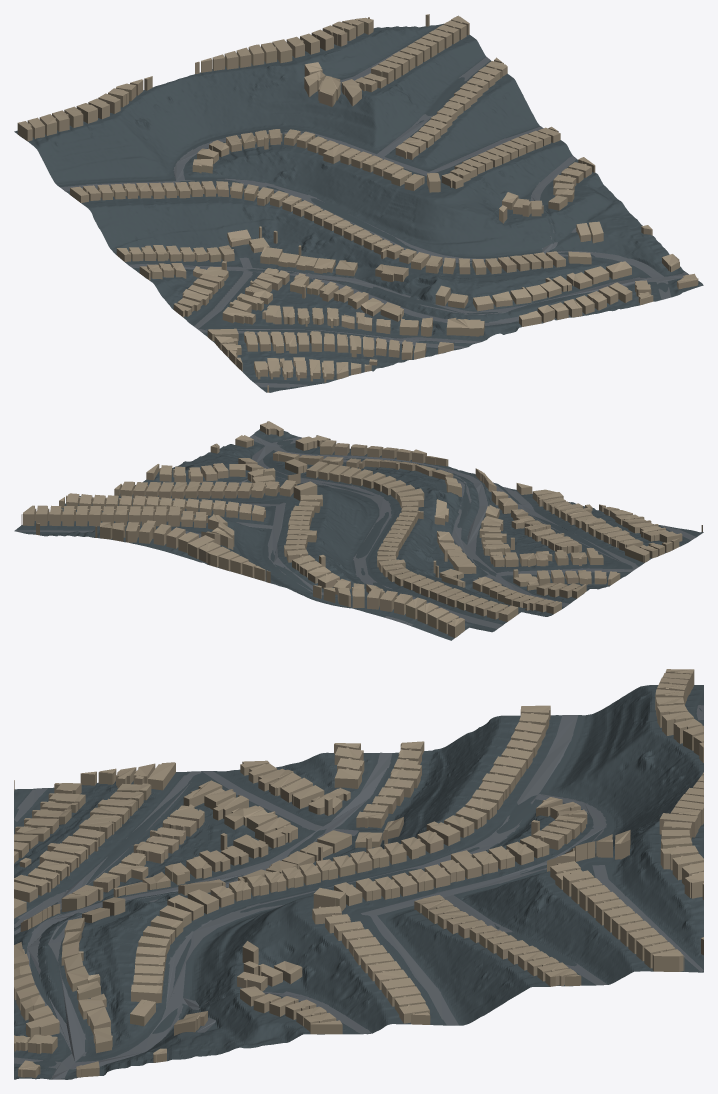
The model's file is epsg26910-1432-10868.lod0.glb.
3 views of the same model, one above another, from view 1: azimuth 30°, elevation 25°; view 2: azimuth 150°, elevation 25°; view 3: azimuth 270°, elevation 25° (orthographic). The views are drawn at different scales.
Visible parts, largest first — view 1: epsg26910-1432-10868-lod0; view 2: epsg26910-1432-10868-lod0; view 3: epsg26910-1432-10868-lod0.
Boxes of the visible parts, x1,y1,x2,y2 form: epsg26910-1432-10868-lod0: (14,14,703,392); epsg26910-1432-10868-lod0: (14,421,703,640); epsg26910-1432-10868-lod0: (14,669,703,1079).
Bounding box in the file's own units: 384 × 95.04 × 384.
